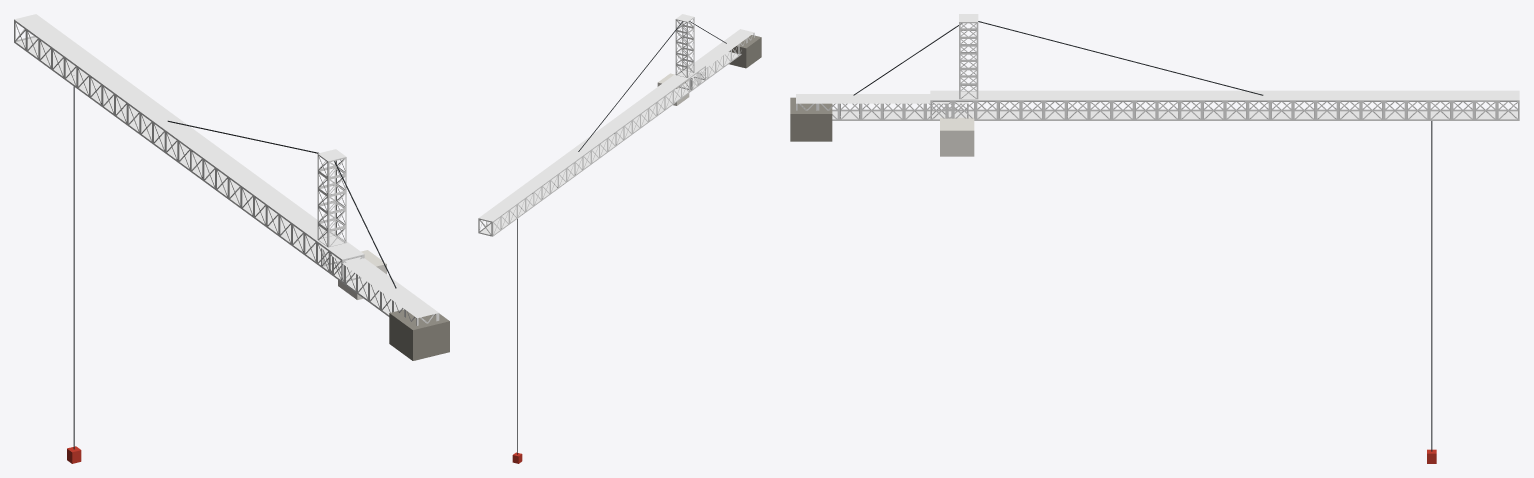
The model's file is tower-crane-jib.obj.
3 renders of one model, left to right at view 1: azimuth 30°, elevation 25°; view 2: azimuth 150°, elevation 25°; view 3: azimuth 270°, elevation 25°, orthographic. The views are drawn at different scales.
Visible parts, largest first — view 1: part1, part2, part3, part5, part8.nocast; view 2: part1, part2, part5, part3; view 3: part1, part2, part3, part4, part5.
Part boxes in pixels (bbox=[...]): part1: bbox=[14, 14, 364, 281]; part2: bbox=[321, 247, 439, 325]; part3: bbox=[389, 309, 449, 360]; part5: bbox=[317, 149, 346, 247]; part8.nocast: bbox=[73, 86, 74, 449]; part1: bbox=[478, 62, 705, 236]; part2: bbox=[679, 29, 754, 90]; part5: bbox=[675, 14, 694, 77]; part3: bbox=[729, 35, 761, 68]; part1: bbox=[930, 90, 1519, 120]; part2: bbox=[796, 94, 968, 120]; part3: bbox=[790, 97, 832, 141]; part4: bbox=[940, 117, 974, 156]; part5: bbox=[959, 14, 978, 99].
Bounding box in the file's own units: 3.1 × 25.54 × 38.04.
Materials: 5 (1 with a texture image).
